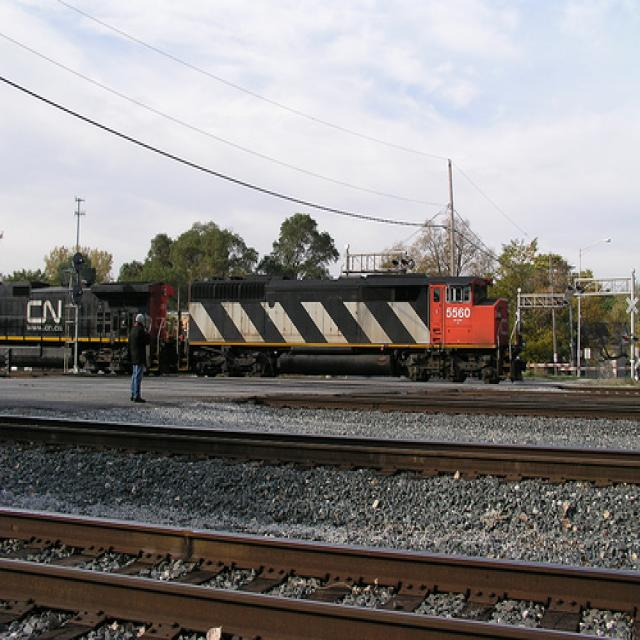locomotive: (181, 248, 525, 385), (0, 266, 179, 377)
